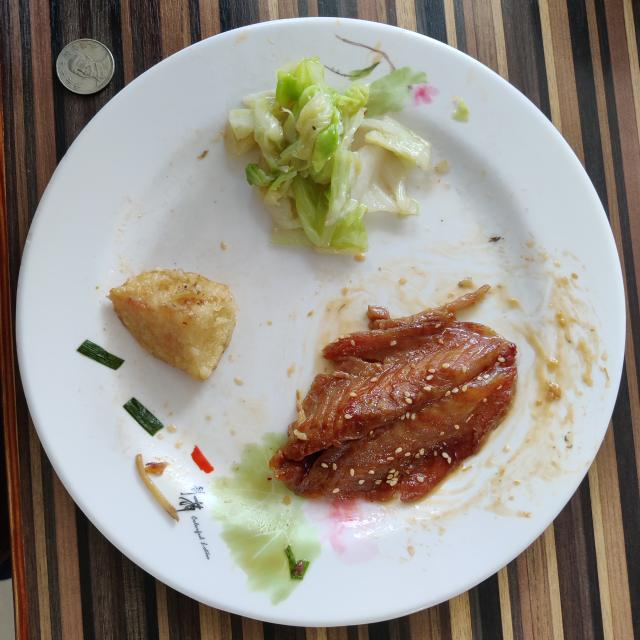Kabayaki sea bream fillet: (269, 285, 516, 501)
cabbage: (225, 58, 430, 252)
coin: (56, 39, 115, 94)
fried potato: (109, 268, 239, 381)
